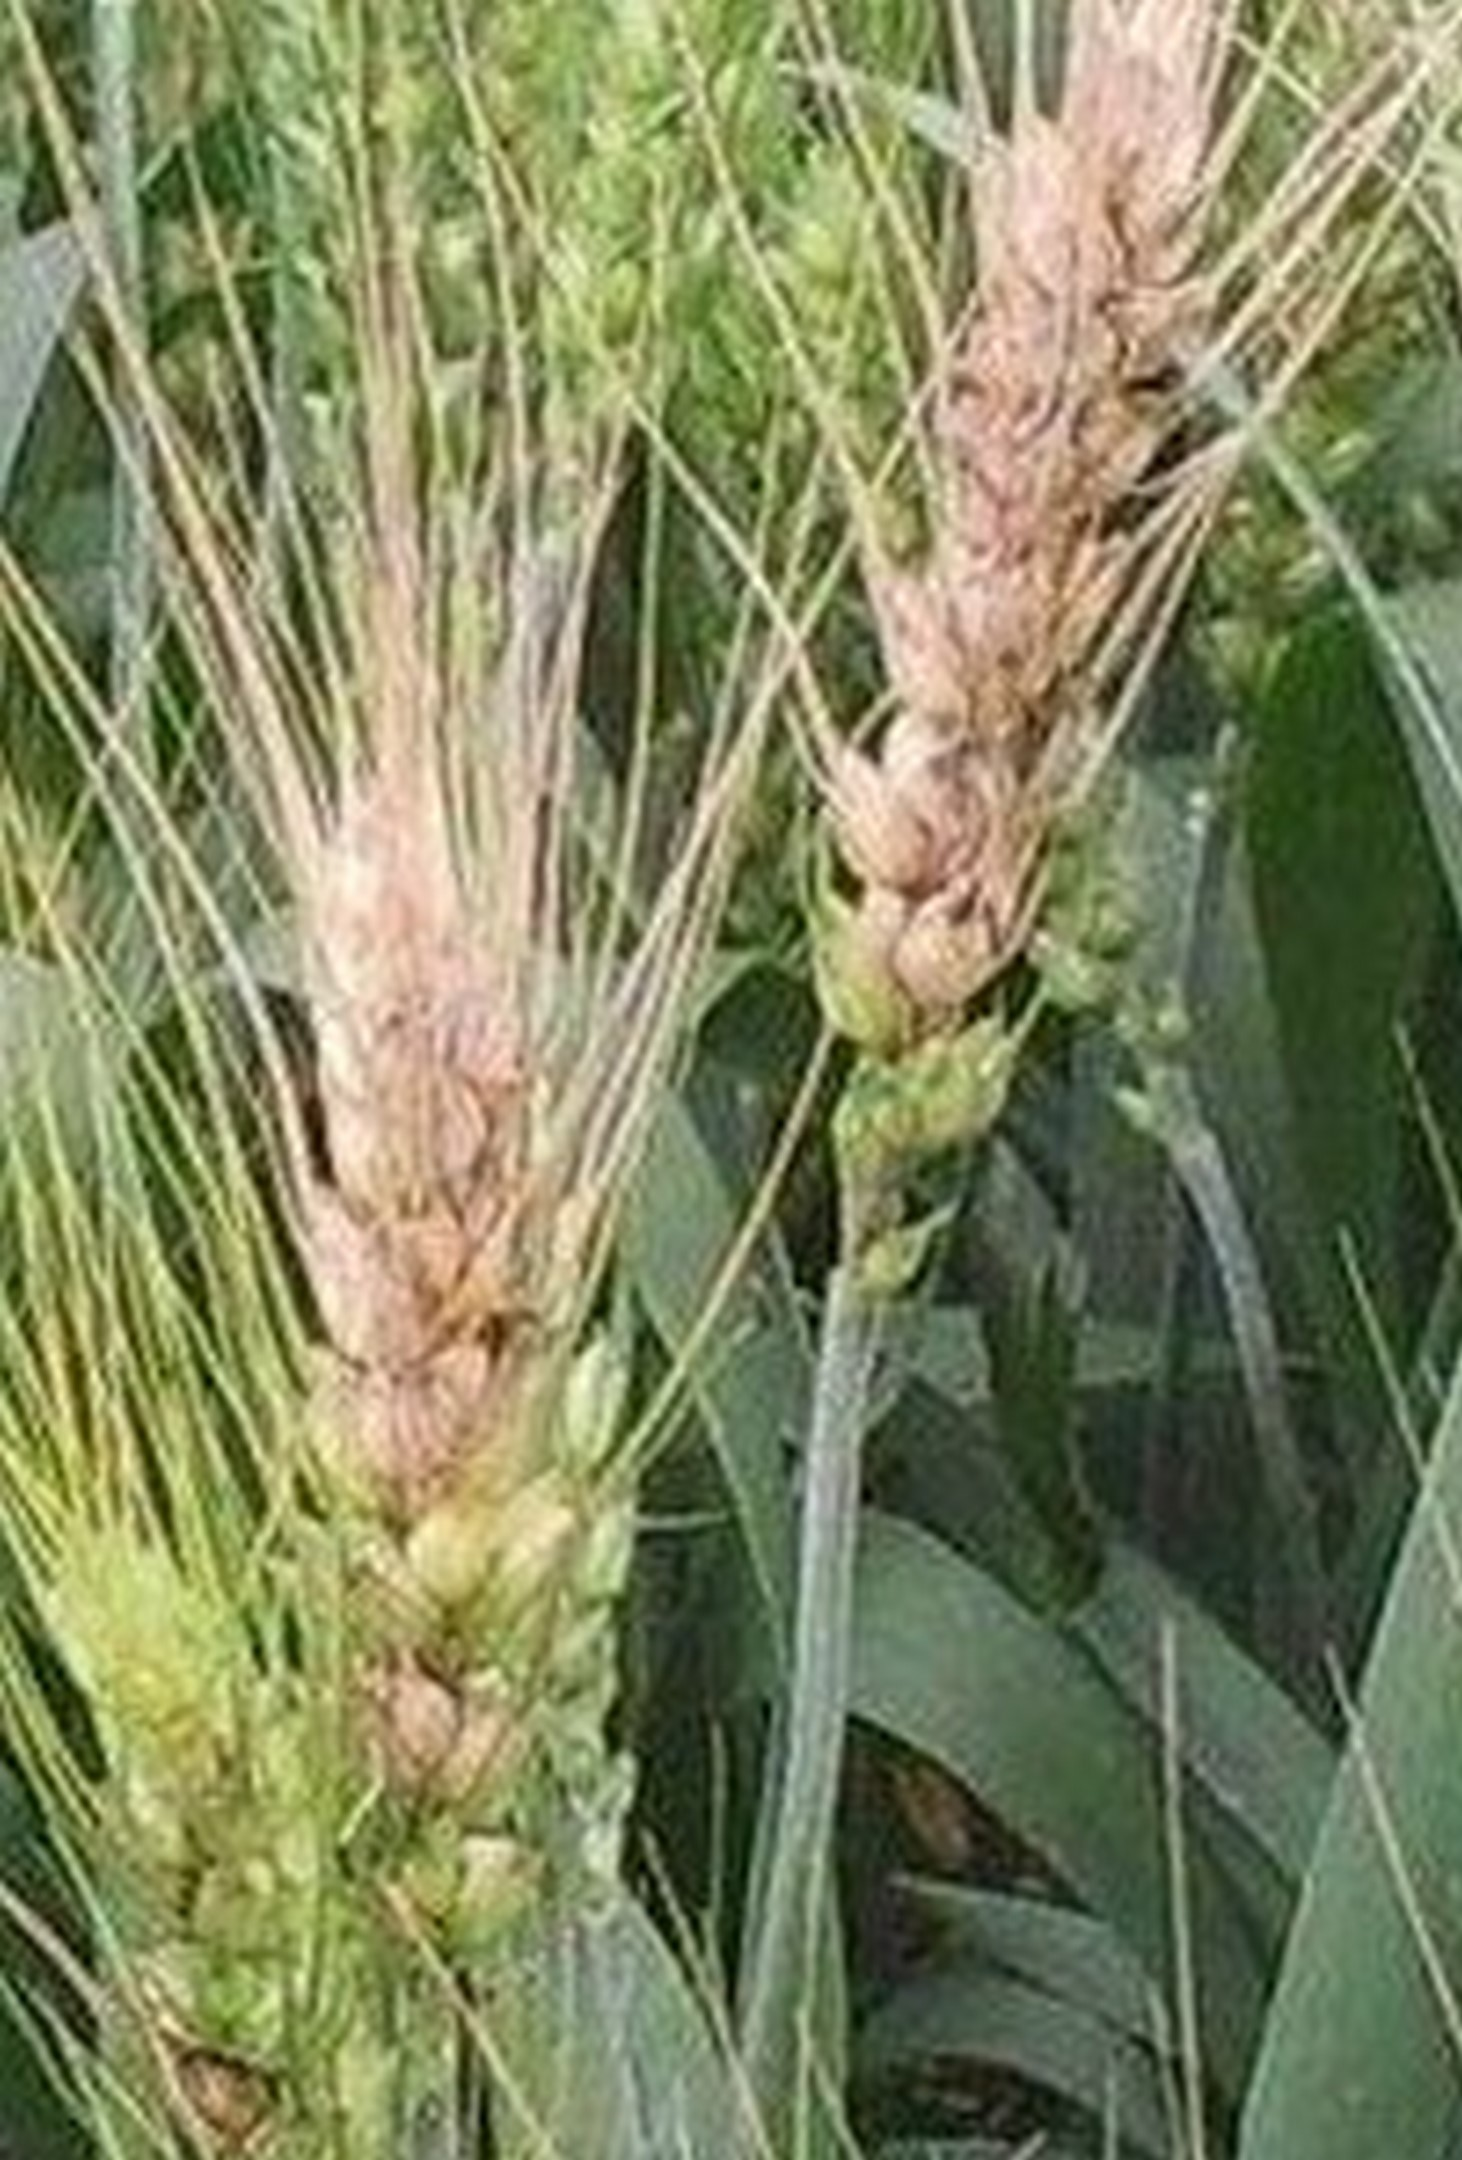Wheat scab: (251, 688, 674, 1768), (809, 104, 1214, 1222)
